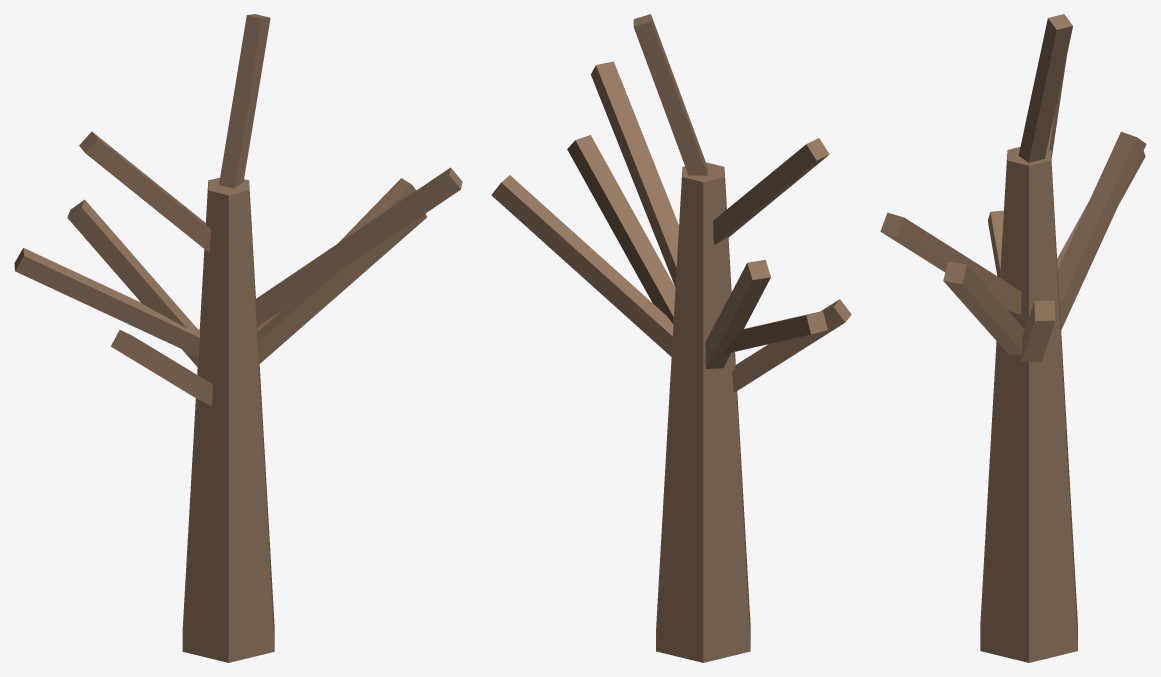
Rendered from dead-tree.glb.
The picture shows the model from 3 angles, left to right: view 1: azimuth 30°, elevation 25°; view 2: azimuth 150°, elevation 25°; view 3: azimuth 270°, elevation 25°; orthographic projection. The views are drawn at different scales.
Parts seen in each view (by area): view 1: dead-tree; view 2: dead-tree; view 3: dead-tree.
Boxes of the visible parts, left/top/right/bottom form: dead-tree: left=14, top=14, right=462, bottom=662; dead-tree: left=491, top=14, right=851, bottom=662; dead-tree: left=880, top=14, right=1146, bottom=662.
Size of the model in its own units: 2.83 by 4.52 by 1.7.
